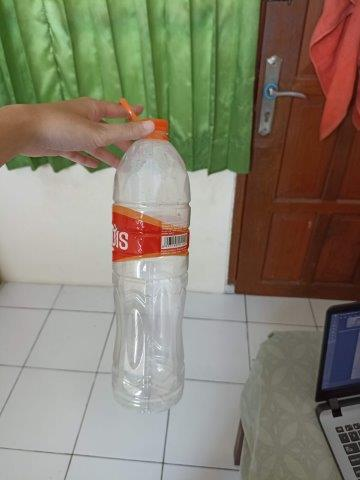botolplastik: (112, 118, 189, 408)
